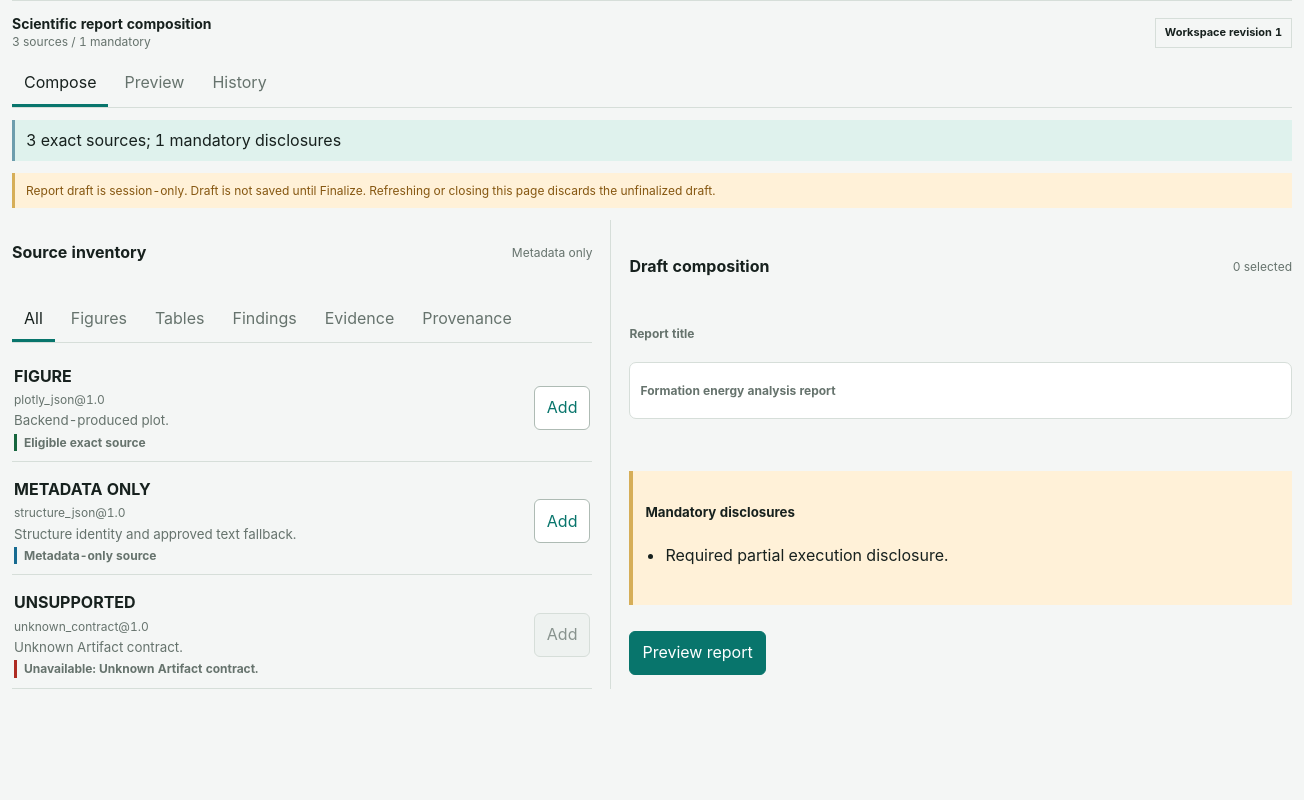
Test: Phase 10M-5 WorkspaceReportComposer › labels the draft as session-only and protects dirty drafts from refresh
The image size is (1304, 800).
Expected: the text "3 exact sources; 1 mandatory disclosures" is shown, x1=12 y1=120 x2=1292 y2=161
Expected: the text "Draft is not saved until Finalize" is shown, x1=191 y1=183 x2=715 y2=198
Step 1. Click the button with aria-label "Add artifact_plot to report" → click(562, 408), box x1=534 y1=386 x2=590 y2=430
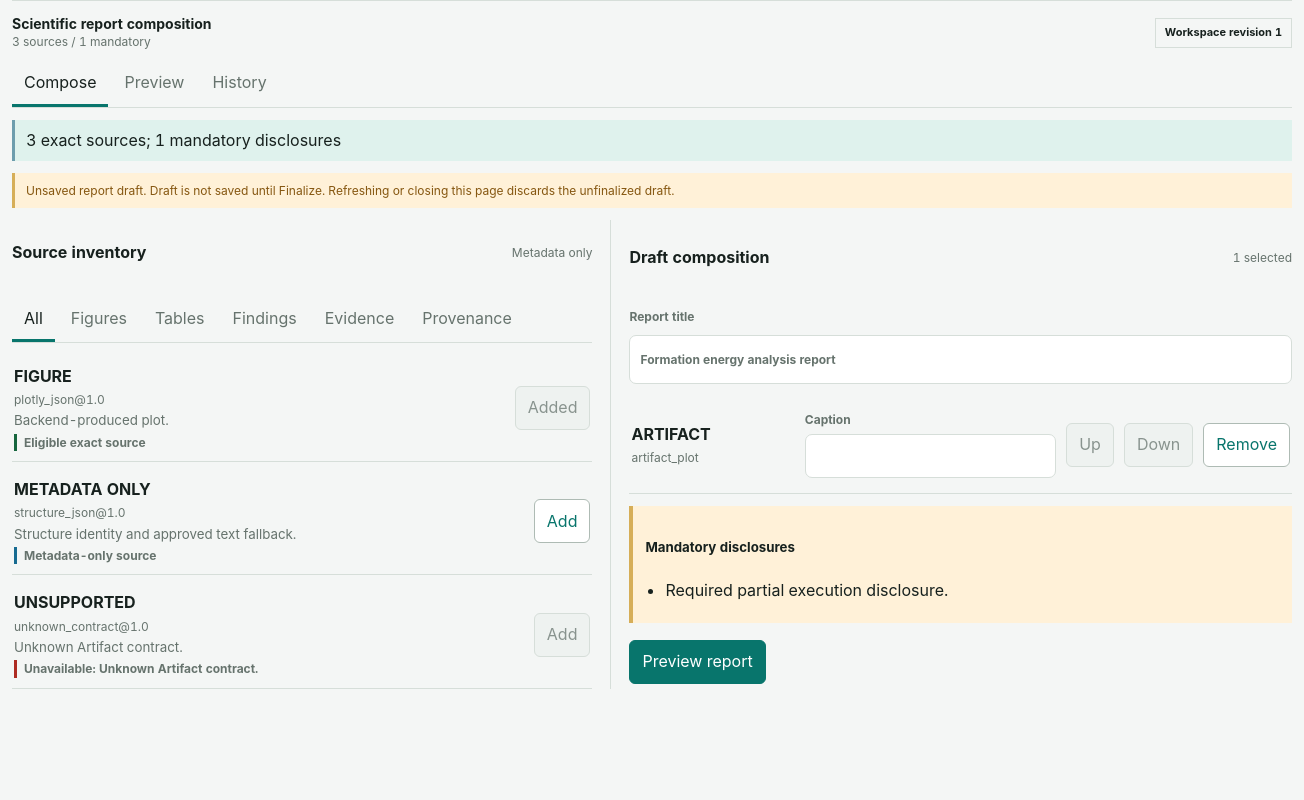
Result: the text "Unsaved report draft" is shown at x1=26 y1=183 x2=150 y2=198
